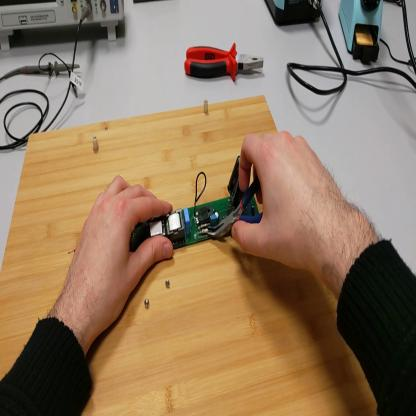hand: (230, 125, 343, 278), (71, 174, 176, 332)
high voltage board: (130, 155, 259, 251)
oscilloscope: (1, 1, 125, 54)
oscilloscope probe tip: (22, 58, 81, 80)
pliers: (207, 177, 263, 238), (185, 43, 267, 83)
welder base: (339, 3, 384, 68)
welder station: (265, 1, 324, 25)
working area: (2, 96, 379, 414)
